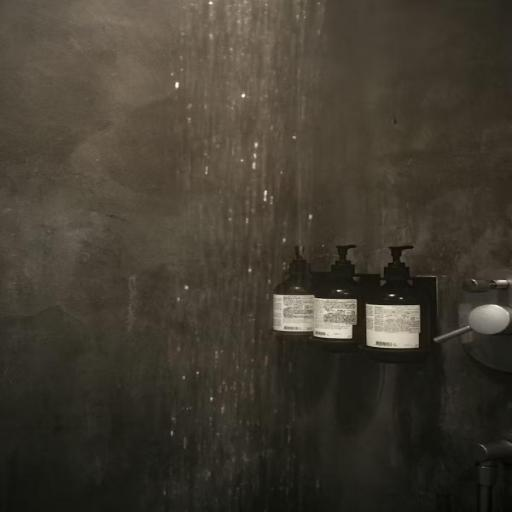bottle: (360, 240, 440, 360), (310, 239, 370, 346)
